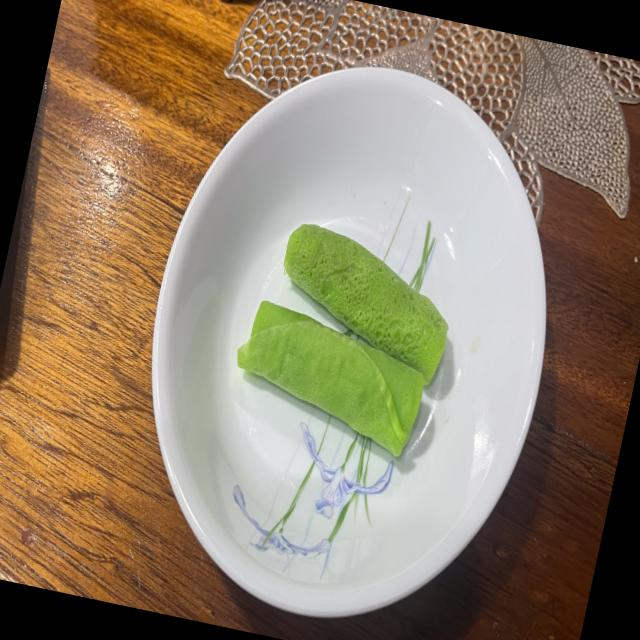Kuih-Ketayap: (237, 301, 423, 457), (283, 223, 448, 383)
